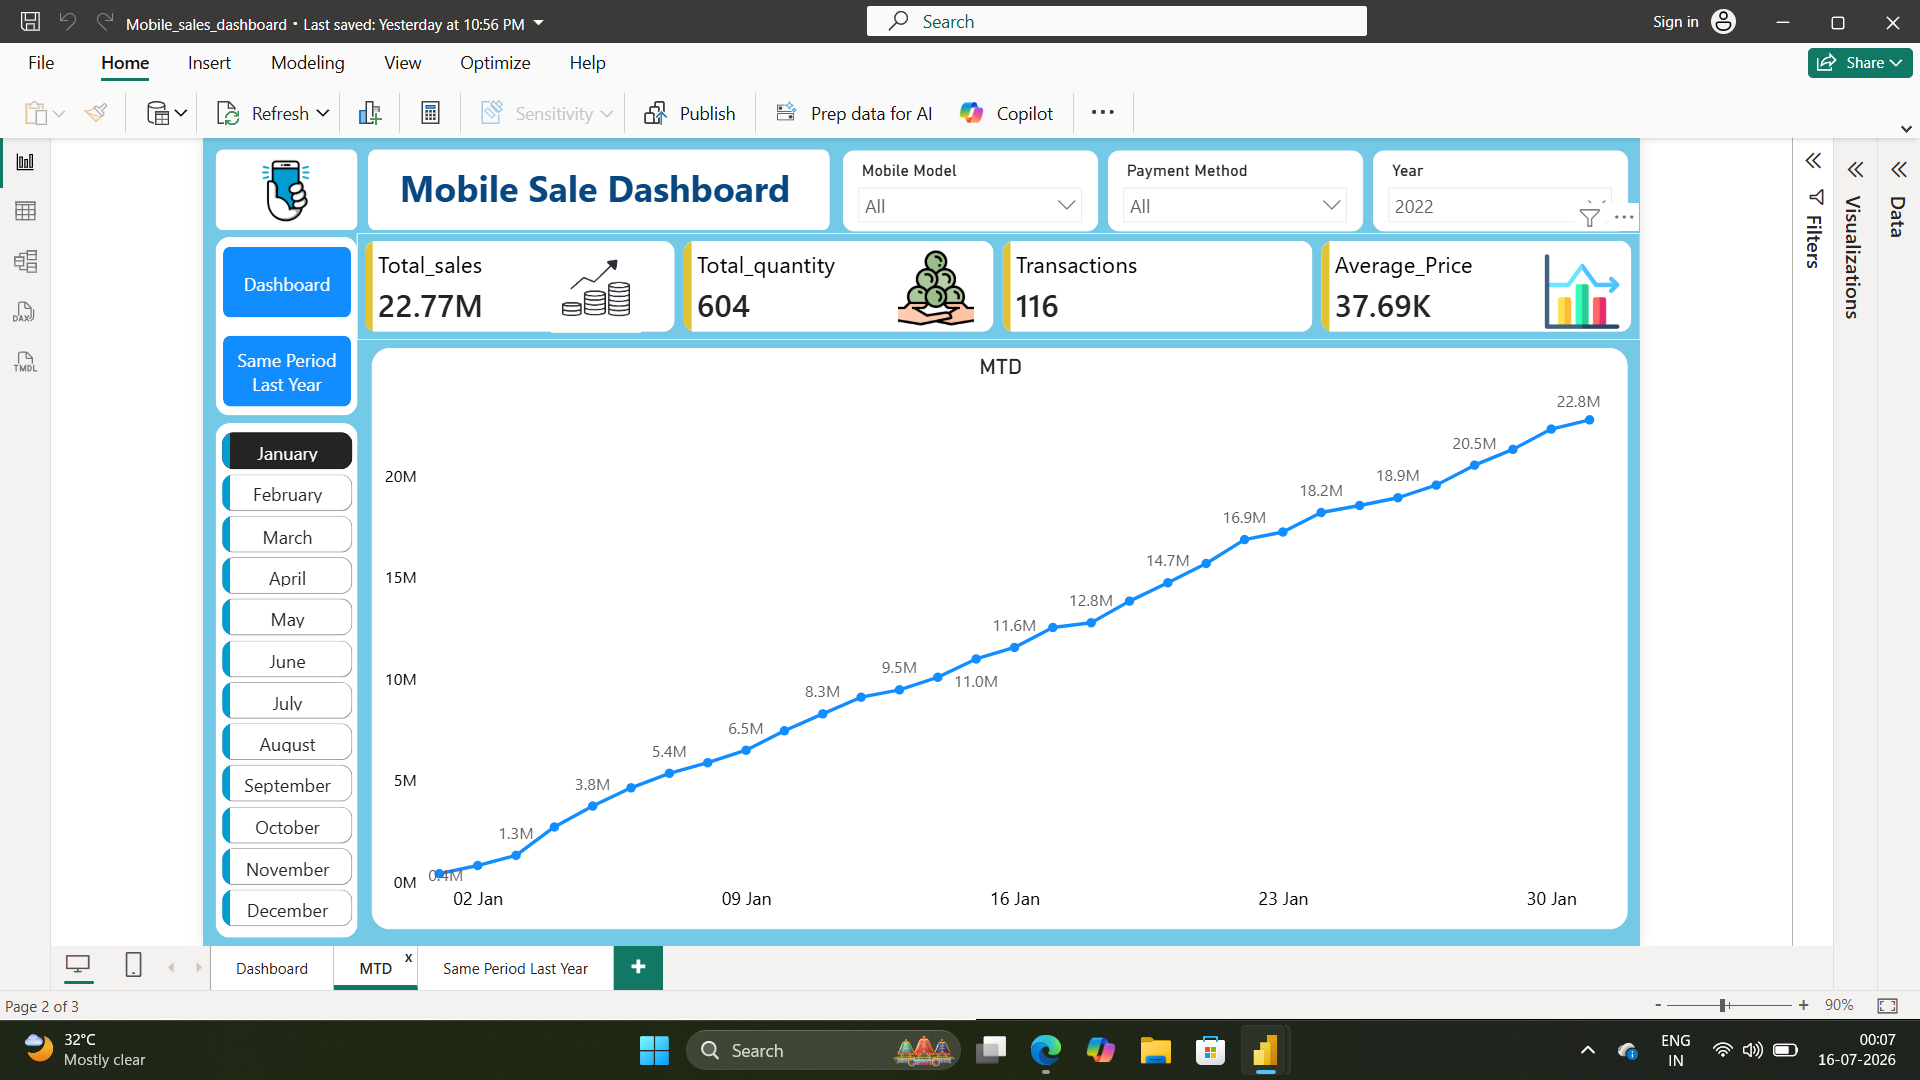

The page's visual inventory and layout, read from the dashboard file:
{"tool":"powerbi","page":{"name":"MTD","canvas":[1280,720],"ordinal":1},"visuals":[{"type":"shape","box":[10.9,9.7,126.7,72.4],"z":0,"group":"g1"},{"type":"shape","box":[10.9,88.1,126.7,159.3],"z":0},{"type":"image","box":[909.6,101.6,84.5,67.6],"z":0,"group":"g2"},{"type":"image","box":[33.8,10.9,78.4,71.2],"z":1000,"group":"g1"},{"type":"cardVisual","fields":{"Data":["Sales_data.Total_sales","Sales_data.Total_quantity","Sales_data.Transactions","Sales_data.Average_Price"]},"box":[137.1,84.3,1142.9,95.7],"z":1000,"group":"g2"},{"type":"shape","box":[10.9,253.4,126.7,458.4],"z":1000},{"type":"group","id":"g1","title":"Group 1","box":[10.9,9.7,126.7,72.4],"z":2000},{"type":"image","box":[585.7,97.2,134.3,71.4],"z":2000,"group":"g2"},{"type":"image","box":[1188.3,102.8,80.8,66.4],"z":3000,"group":"g2"},{"type":"advancedSlicerVisual","fields":{"Values":["custom_calender.Date.Variation.Date Hierarchy.Month"]},"box":[12.1,257,126.7,451.2],"z":3000},{"type":"slicer","fields":{"Values":["Sales_data.Mobile Model"]},"box":[569.4,10.9,226.8,72.4],"z":4000},{"type":"image","box":[277.1,92.9,145.7,80],"z":4000,"group":"g2"},{"type":"shape","box":[147.2,9.7,411.4,72.4],"z":5000},{"type":"slicer","fields":{"Values":["Sales_data.Payment Method"]},"box":[805.9,10.9,226.8,72.4],"z":6000},{"type":"slicer","fields":{"Values":["custom_calender.Date.Variation.Date Hierarchy.Year"]},"box":[1042.4,10.9,226.8,72.4],"z":7000},{"type":"textbox","box":[170,17.5,365,61.2],"z":8000},{"type":"group","id":"g2","title":"Group 2","box":[137.1,84.3,1142.9,95.7],"z":9000},{"type":"lineChart","title":"MTD","fields":{"Y":["Sales_data.MTD"],"Category":["custom_calender.Date.Variation.Date Hierarchy.Year","custom_calender.Date.Variation.Date Hierarchy.Quarter","custom_calender.Date.Variation.Date Hierarchy.Month","custom_calender.Date.Variation.Date Hierarchy.Day"]},"box":[150.8,187,1118.4,517.6],"z":10000},{"type":"pageNavigator","box":[18.1,96.5,114.6,142.4],"z":10001}]}

Visuals, with their boxes on the page's 1280x720 design canvas (x1, y1, x2, y2). These are canvas units, not pixel positions in the 1920x1080 screenshot, which may show the page scaled, cropped or inside an application window:
shape: (11,10,138,82)
shape: (11,88,138,247)
image: (910,102,994,169)
image: (34,11,112,82)
cardVisual - Sales_data.Total_sales x Sales_data.Total_quantity: (137,84,1280,180)
shape: (11,253,138,712)
"Group 1" group: (11,10,138,82)
image: (586,97,720,169)
image: (1188,103,1269,169)
advancedSlicerVisual - custom_calender.Date.Variation.Date Hierarchy.Month: (12,257,139,708)
slicer - Sales_data.Mobile Model: (569,11,796,83)
image: (277,93,423,173)
shape: (147,10,559,82)
slicer - Sales_data.Payment Method: (806,11,1033,83)
slicer - custom_calender.Date.Variation.Date Hierarchy.Year: (1042,11,1269,83)
textbox: (170,18,535,79)
"Group 2" group: (137,84,1280,180)
"MTD" lineChart: (151,187,1269,705)
pageNavigator: (18,96,133,239)
